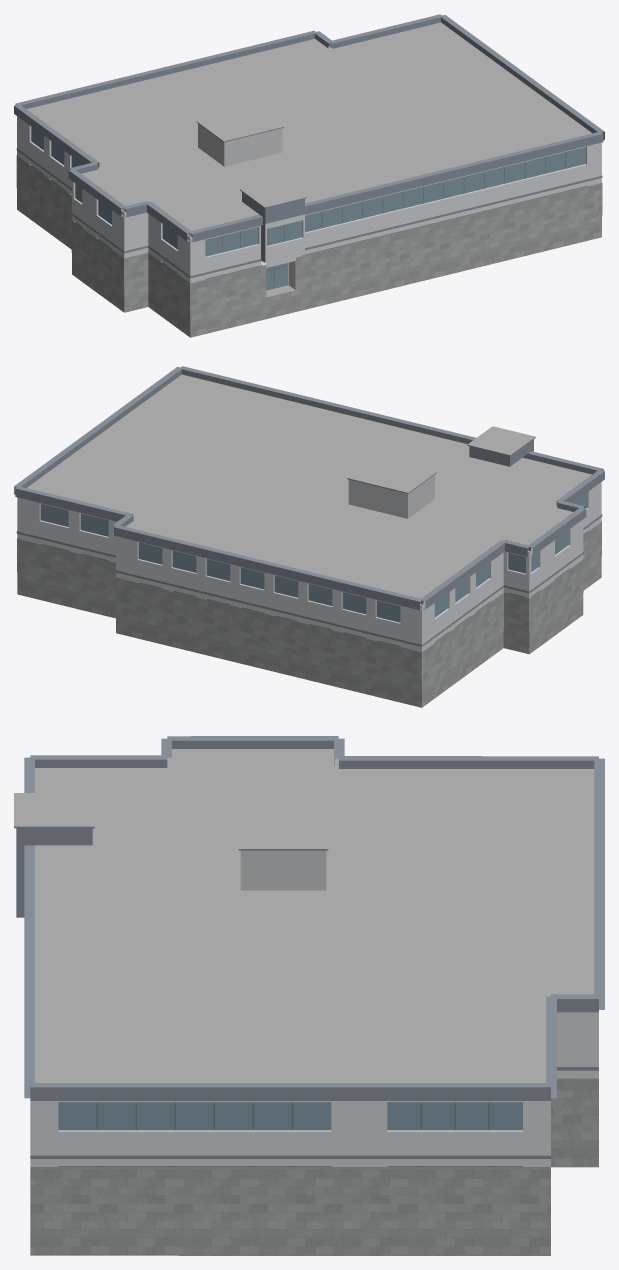
The picture shows the model from 3 angles, top to bottom: view 1: azimuth 30°, elevation 25°; view 2: azimuth 150°, elevation 25°; view 3: azimuth 270°, elevation 25°; orthographic projection. The views are drawn at different scales.
Parts seen in each view (by area): view 1: deviceInnovE3_3__roof, deviceInnovE3_3__base, deviceInnovE3_3__wall, deviceInnovE3_3__trim, deviceInnovE3_3__glass, deviceInnovE3_3__wall2, deviceInnovE3_3__frame; view 2: deviceInnovE3_3__roof, deviceInnovE3_3__base, deviceInnovE3_3__wall, deviceInnovE3_3__trim, deviceInnovE3_3__glass, deviceInnovE3_3__wall2; view 3: deviceInnovE3_3__roof, deviceInnovE3_3__base, deviceInnovE3_3__trim, deviceInnovE3_3__wall, deviceInnovE3_3__glass, deviceInnovE3_3__wall2.
Part boxes in pixels (x1,y1,x2,y2): deviceInnovE3_3__roof: [26, 22, 591, 297]; deviceInnovE3_3__base: [16, 155, 602, 337]; deviceInnovE3_3__wall: [17, 116, 601, 315]; deviceInnovE3_3__trim: [14, 14, 604, 277]; deviceInnovE3_3__glass: [31, 127, 585, 290]; deviceInnovE3_3__wall2: [198, 124, 282, 166]; deviceInnovE3_3__frame: [222, 152, 565, 288]; deviceInnovE3_3__roof: [27, 374, 591, 605]; deviceInnovE3_3__base: [17, 521, 601, 707]; deviceInnovE3_3__wall: [17, 482, 601, 685]; deviceInnovE3_3__trim: [14, 366, 604, 646]; deviceInnovE3_3__glass: [40, 493, 586, 646]; deviceInnovE3_3__wall2: [348, 475, 434, 518]; deviceInnovE3_3__roof: [14, 749, 594, 1082]; deviceInnovE3_3__base: [30, 1078, 598, 1255]; deviceInnovE3_3__trim: [14, 736, 604, 1158]; deviceInnovE3_3__wall: [30, 1012, 598, 1166]; deviceInnovE3_3__glass: [58, 1102, 522, 1166]; deviceInnovE3_3__wall2: [240, 850, 326, 890].
Size of the model in its own units: 53.34 by 14.5 by 37.92.
8 materials, 1 textured.
